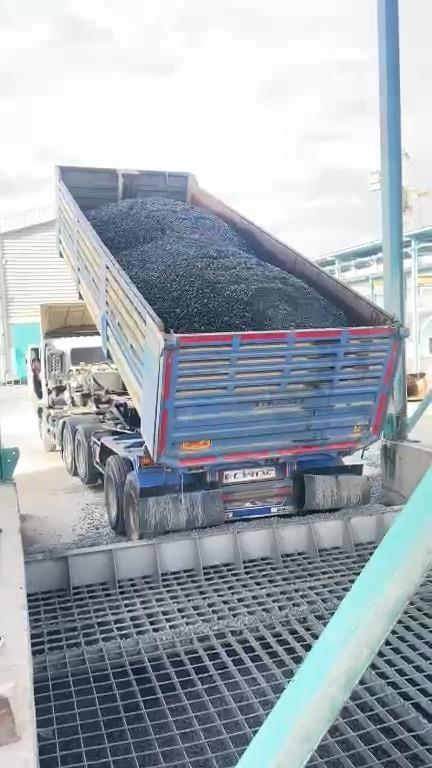gravel: (88, 198, 347, 332)
